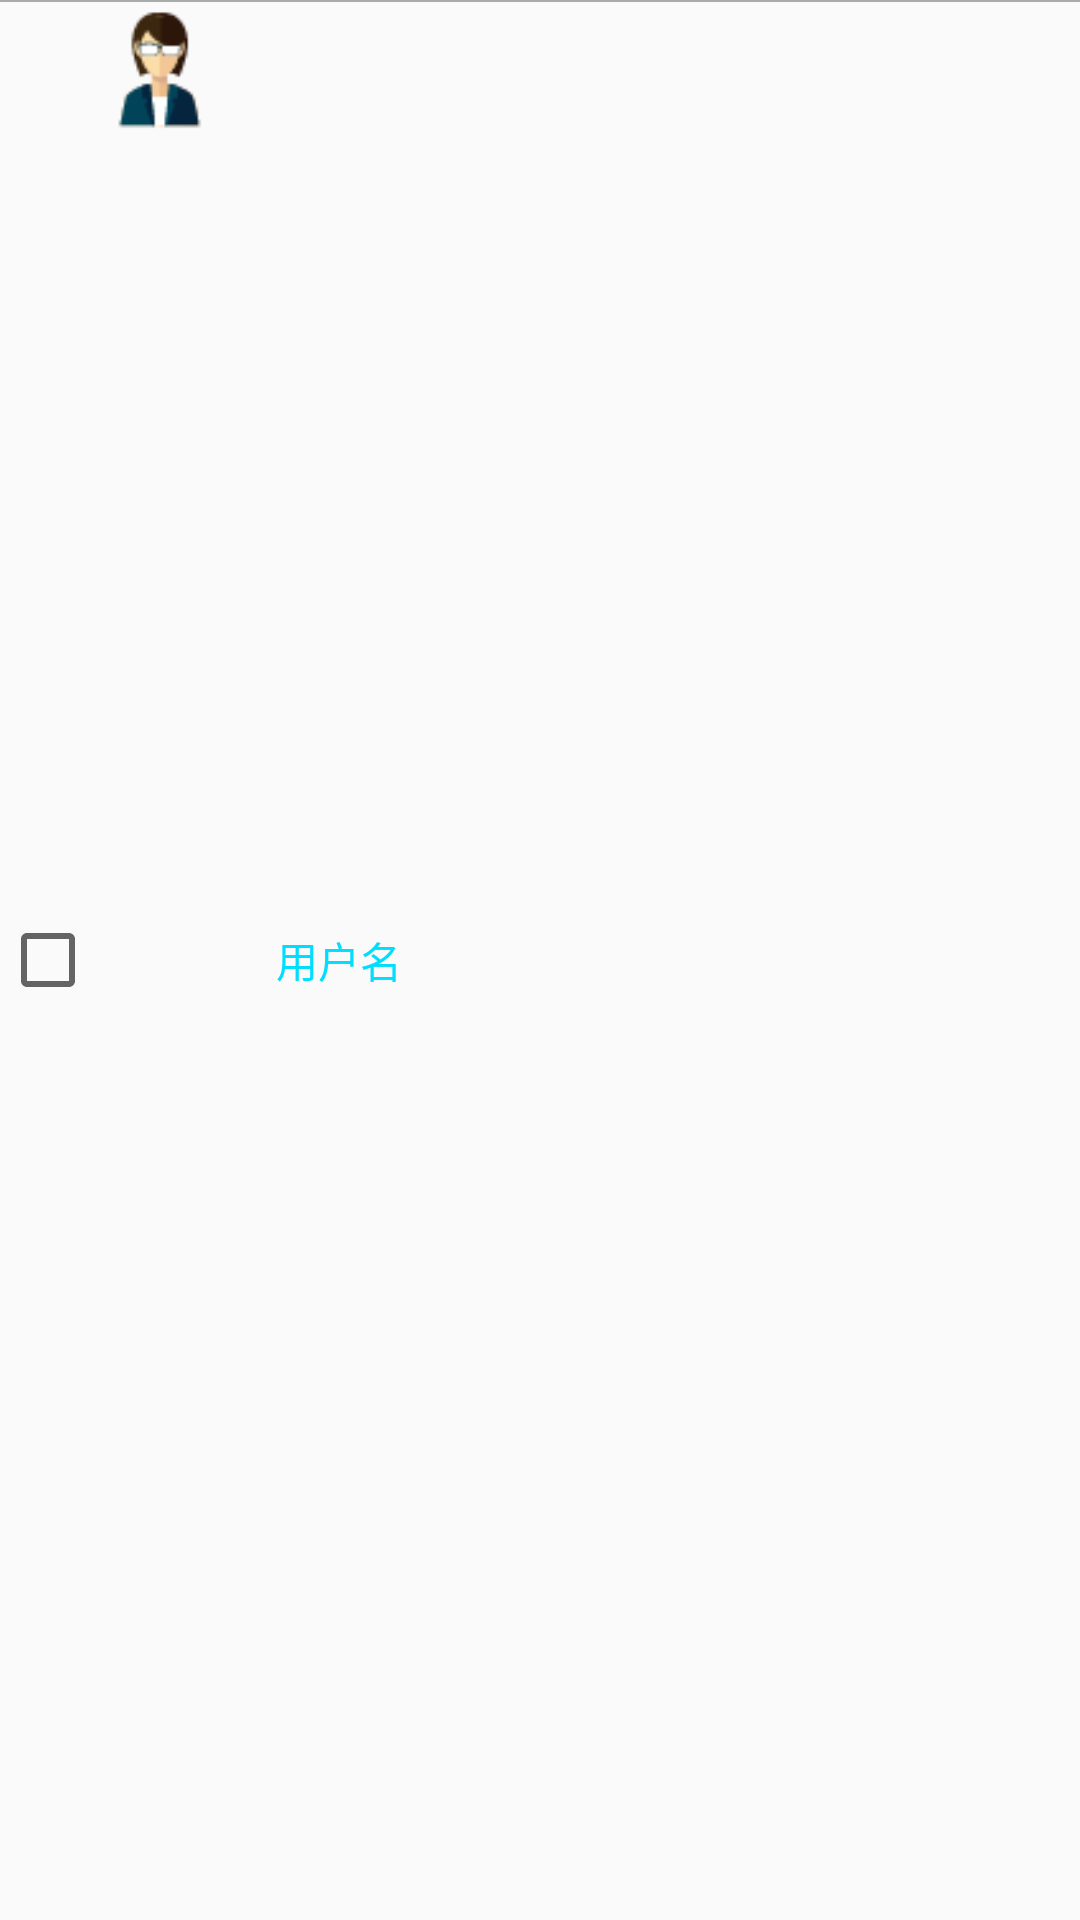

Icons on this 1080 x 1920 Android screen, each with the point to tap as (x,y):
head: (159,70)
